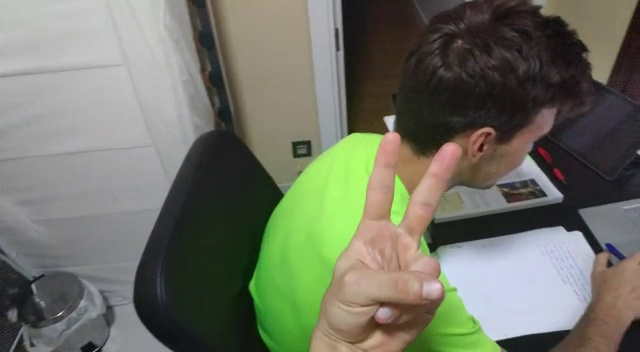Peace: (308, 126, 465, 349)
